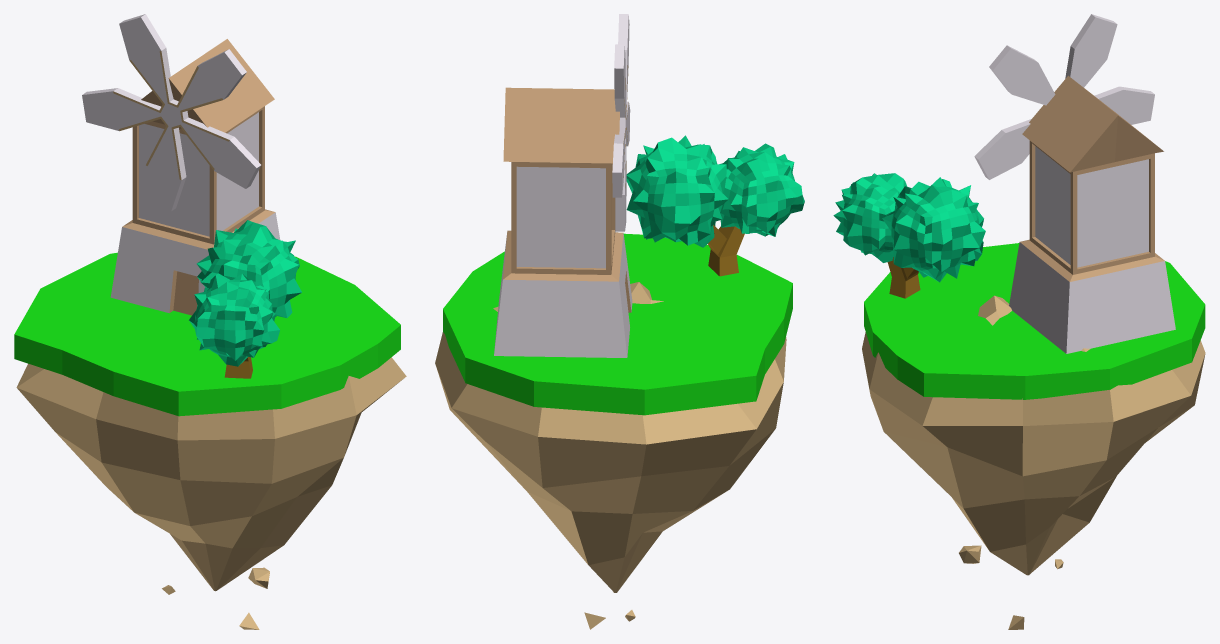
The model's file is ISLA PRUEBA 1.glb.
The picture shows the model from 3 angles, left to right: view 1: azimuth 30°, elevation 25°; view 2: azimuth 150°, elevation 25°; view 3: azimuth 270°, elevation 25°; orthographic projection. The views are drawn at different scales.
Parts seen in each view (by area): view 1: Island, Green_platform, Untitled_1, Untitled001_1, Untitled004_1, Untitled001, Untitled; view 2: Island, Green_platform, Untitled001_1, Untitled004_1, Untitled001, Untitled_1, Untitled004; view 3: Island, Green_platform, Untitled001_1, Untitled004_1, Untitled001, Untitled_1, Untitled004.
Part boxes in pixels (x1,y1,x2,y2): Island: (16, 357, 406, 629); Green_platform: (14, 252, 400, 416); Untitled_1: (82, 14, 261, 211); Untitled001_1: (110, 112, 280, 312); Untitled004_1: (189, 220, 301, 366); Untitled001: (122, 39, 275, 315); Untitled: (113, 51, 229, 180); Island: (435, 282, 786, 629); Green_platform: (443, 233, 792, 415); Untitled001_1: (494, 166, 632, 357); Untitled004_1: (626, 135, 804, 247); Untitled001: (503, 87, 631, 312); Untitled_1: (612, 14, 630, 231); Untitled004: (708, 225, 744, 276); Island: (862, 295, 1205, 629); Green_platform: (864, 243, 1205, 399); Untitled001_1: (1009, 146, 1175, 353); Untitled004_1: (833, 173, 985, 282); Untitled001: (1020, 75, 1164, 281); Untitled_1: (974, 14, 1154, 179); Untitled004: (887, 257, 920, 298).
Bounding box in the file's own units: 1.05 × 1.95 × 1.13.
